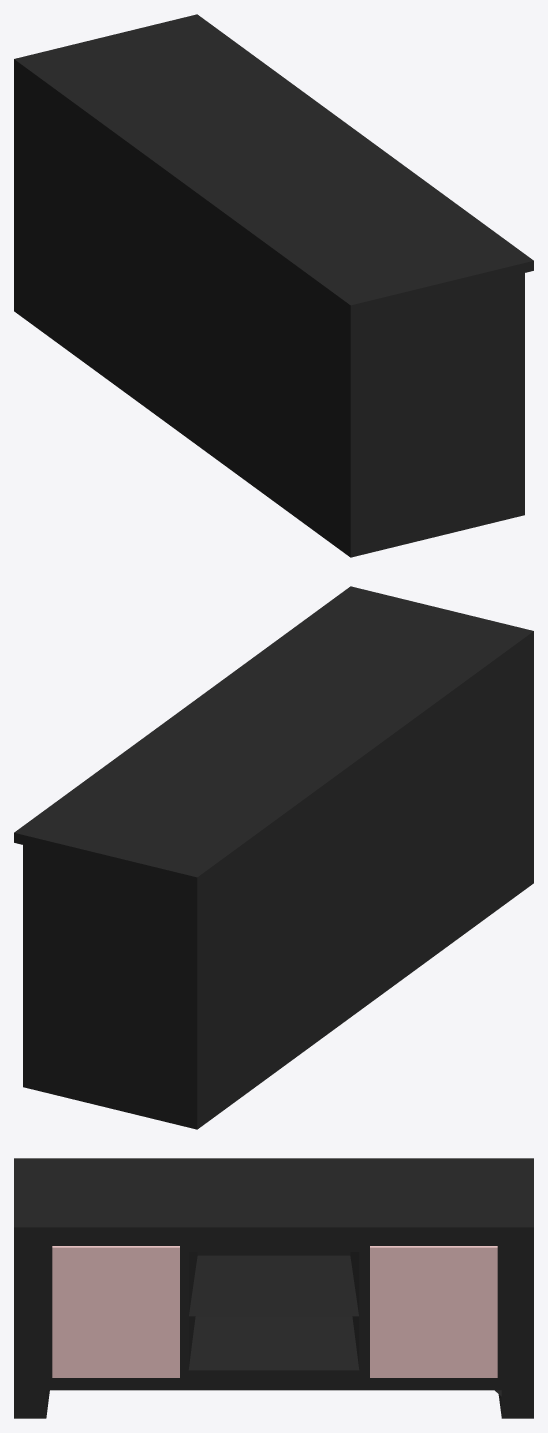
File: Tv-Stand.fbx
The picture shows the model from 3 angles, top to bottom: view 1: azimuth 30°, elevation 25°; view 2: azimuth 150°, elevation 25°; view 3: azimuth 270°, elevation 25°; orthographic projection. The views are drawn at different scales.
Visible parts, largest first — view 1: TV Stand; view 2: TV Stand; view 3: TV Stand.
Boxes of the visible parts, x1=… form: TV Stand: x1=14, y1=14, x2=533, y2=557; TV Stand: x1=14, y1=586, x2=533, y2=1129; TV Stand: x1=14, y1=1158, x2=533, y2=1418.
Bounding box in the file's own units: 47.92 × 63 × 152.
